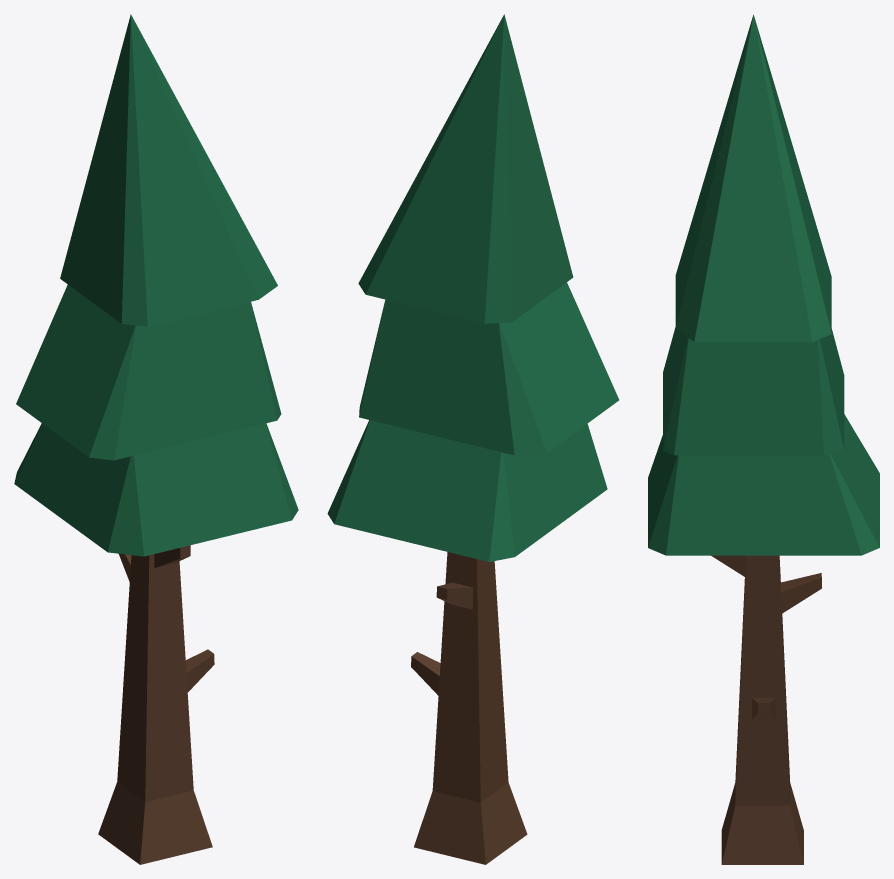
File: halo_tree_pinetalla_detailed.obj
The picture shows the model from 3 angles, left to right: view 1: azimuth 30°, elevation 25°; view 2: azimuth 150°, elevation 25°; view 3: azimuth 270°, elevation 25°; orthographic projection. The views are drawn at different scales.
Parts seen in each view (by area): view 1: tree_pineTallA_detailed; view 2: tree_pineTallA_detailed; view 3: tree_pineTallA_detailed.
Part boxes in pixels (x1=…): tree_pineTallA_detailed: x1=14, y1=14, x2=298, y2=864; tree_pineTallA_detailed: x1=327, y1=14, x2=619, y2=864; tree_pineTallA_detailed: x1=648, y1=14, x2=879, y2=864.
Bounding box in the file's own units: 0.3863 × 1.53 × 0.3919.
